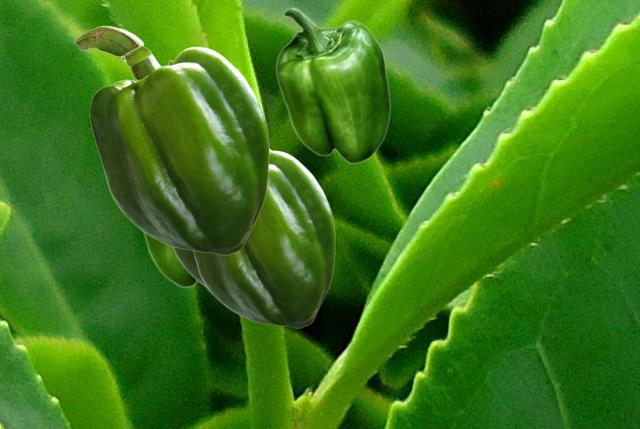bell_pepper: (73, 25, 268, 254), (193, 150, 334, 327), (275, 7, 390, 163), (172, 147, 271, 287), (142, 232, 211, 294)
